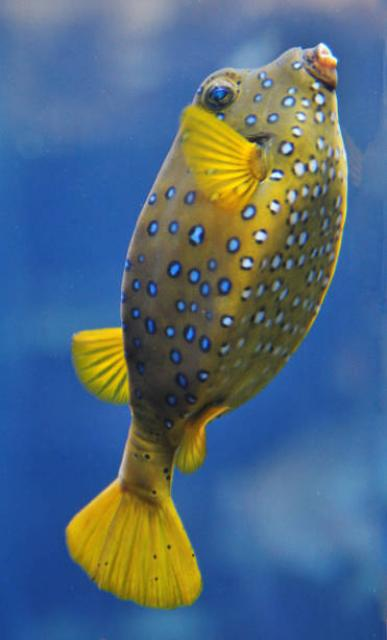Mulut: (295, 28, 371, 100)
Sirip Dada: (152, 84, 291, 234)
Sirip Ekor: (47, 458, 210, 634)
Sirip Punggung: (58, 305, 150, 423)
